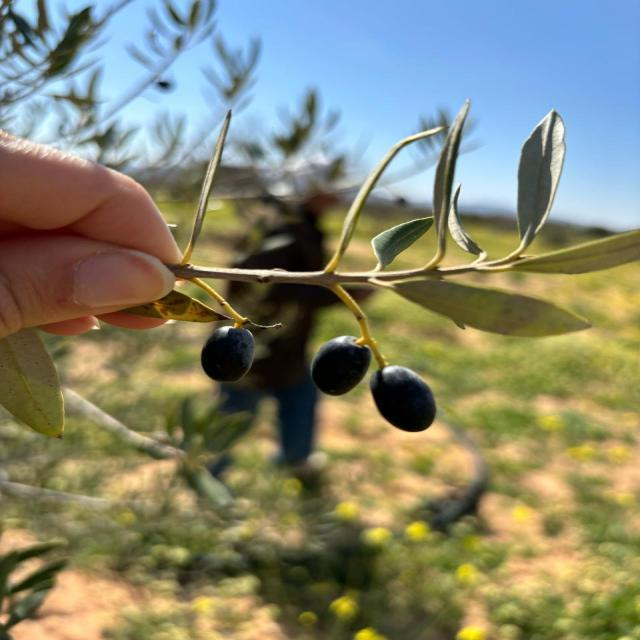OlivePeacockSpot: (123, 292, 230, 321)
